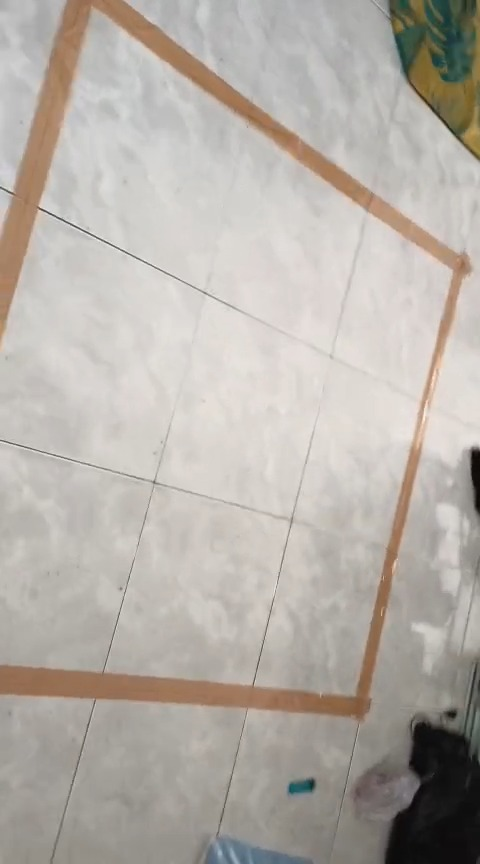floor marking: (0, 0, 470, 719)
